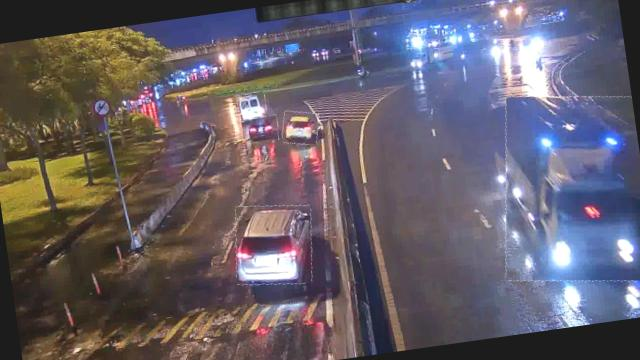Bus: (234, 91, 268, 121)
Car: (228, 199, 318, 291), (280, 108, 321, 146), (244, 113, 278, 144)
Truck: (487, 83, 640, 294)
